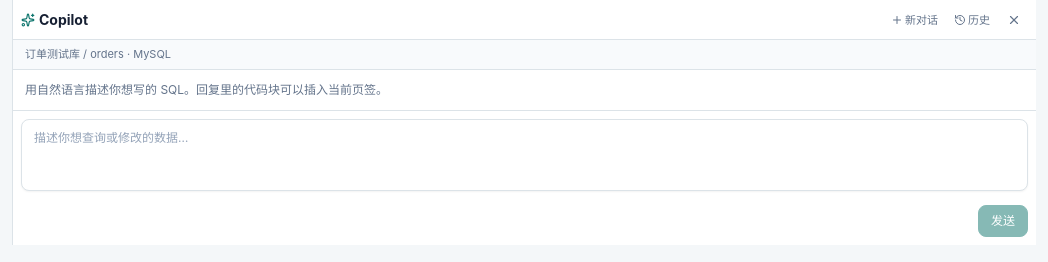
Test: copilot panel › hides history on an empty chat until the list is opened
Expected: the text box with test id "copilot-input" is shown, top-left (21, 118), bottom-right (1028, 190)
Click the button with test id "copilot-history-toggle": [972, 20] box top-left (948, 6), bottom-right (996, 34)
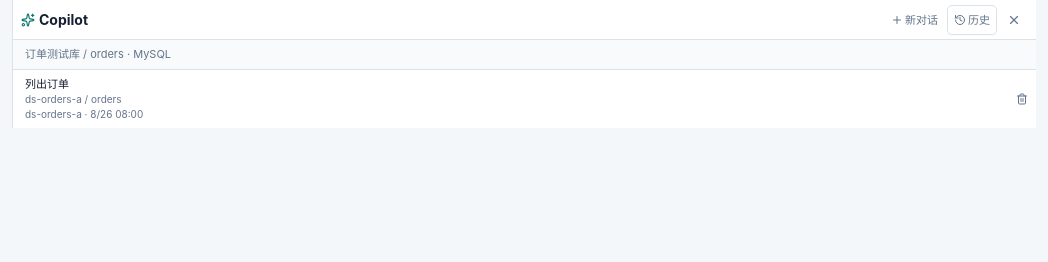
Expected: the element with test id "copilot-history" shows "列出订单", top-left (13, 70), bottom-right (1006, 128)
Click the button with test id "copilot-history-toggle": [972, 20] box top-left (948, 6), bottom-right (996, 34)
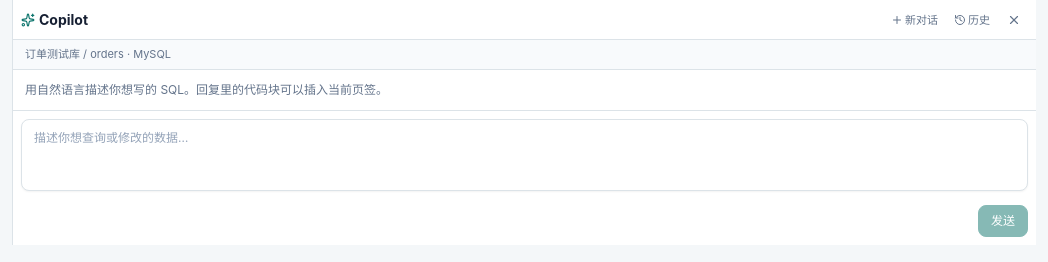
Expected: the text box with test id "copilot-input" is shown, top-left (21, 118), bottom-right (1028, 190)
